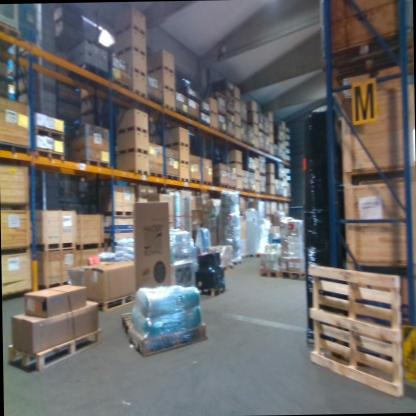pallet: (305, 252, 407, 404), (318, 32, 413, 86), (5, 328, 102, 373), (129, 321, 208, 358), (342, 165, 414, 183), (88, 291, 138, 309), (33, 124, 66, 143), (72, 156, 111, 170), (32, 146, 66, 162), (30, 242, 76, 253), (0, 18, 21, 41), (111, 45, 147, 58), (0, 141, 32, 155), (115, 123, 149, 135), (114, 146, 149, 157), (146, 62, 175, 75), (35, 280, 68, 291), (113, 24, 150, 33), (279, 268, 306, 280), (120, 310, 133, 334), (75, 241, 105, 251), (200, 286, 226, 297), (259, 266, 280, 279), (145, 94, 164, 108), (100, 210, 133, 218), (161, 141, 190, 150), (128, 67, 148, 77), (158, 82, 175, 93), (125, 168, 148, 176), (130, 88, 147, 98), (164, 172, 180, 181), (148, 171, 165, 179), (221, 263, 234, 272), (164, 103, 175, 113), (177, 159, 190, 167), (209, 108, 217, 119), (189, 178, 202, 184), (215, 183, 228, 189), (201, 179, 213, 185), (231, 259, 241, 266), (180, 177, 190, 182), (227, 185, 236, 190), (209, 125, 217, 130)
